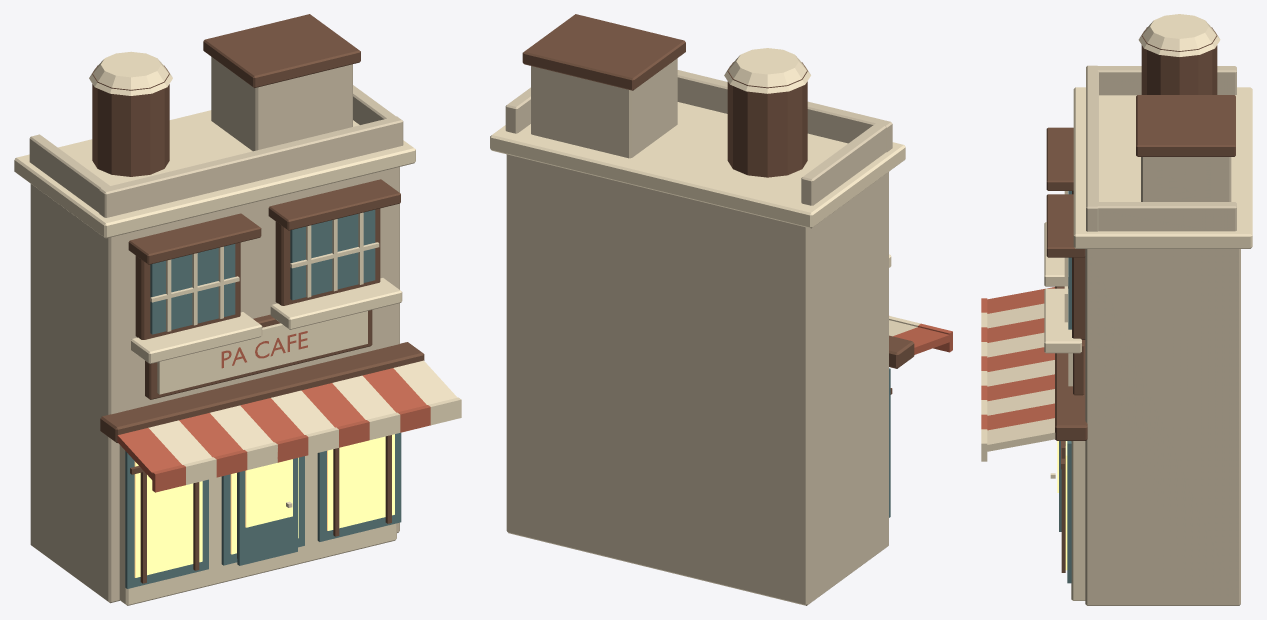
Rendered from tpe_cafe_front.glb.
3 views of the same model, side by side, from view 1: azimuth 30°, elevation 25°; view 2: azimuth 150°, elevation 25°; view 3: azimuth 270°, elevation 25° (orthographic). The views are drawn at different scales.
Parts seen in each view (by area): view 1: tpe_cafe_front__warm-plaster, tpe_cafe_front__ivory-trim, tpe_cafe_front__dark-walnut, tpe_cafe_front__blue-window, tpe_cafe_front__warm-window, tpe_cafe_front__awning-terracotta; view 2: tpe_cafe_front__warm-plaster, tpe_cafe_front__ivory-trim, tpe_cafe_front__dark-walnut, tpe_cafe_front__awning-terracotta; view 3: tpe_cafe_front__warm-plaster, tpe_cafe_front__ivory-trim, tpe_cafe_front__dark-walnut, tpe_cafe_front__awning-terracotta, tpe_cafe_front__blue-window, tpe_cafe_front__warm-window.
Boxes of the visible parts, x1,y1,x2,y2 form: tpe_cafe_front__warm-plaster: (29, 57, 403, 603); tpe_cafe_front__ivory-trim: (14, 51, 461, 605); tpe_cafe_front__dark-walnut: (92, 14, 424, 583); tpe_cafe_front__blue-window: (125, 209, 401, 588); tpe_cafe_front__warm-window: (134, 434, 394, 577); tpe_cafe_front__awning-terracotta: (117, 331, 430, 492); tpe_cafe_front__warm-plaster: (505, 58, 892, 605); tpe_cafe_front__ivory-trim: (490, 48, 920, 336); tpe_cafe_front__dark-walnut: (522, 14, 914, 394); tpe_cafe_front__awning-terracotta: (893, 323, 952, 354); tpe_cafe_front__warm-plaster: (1085, 65, 1240, 605); tpe_cafe_front__ivory-trim: (981, 14, 1252, 600); tpe_cafe_front__dark-walnut: (1046, 27, 1235, 572); tpe_cafe_front__awning-terracotta: (981, 287, 1054, 430); tpe_cafe_front__blue-window: (1059, 191, 1071, 583); tpe_cafe_front__warm-window: (1057, 441, 1067, 570).
Size of the model in its own units: 40.92 by 61.1 by 31.6.
